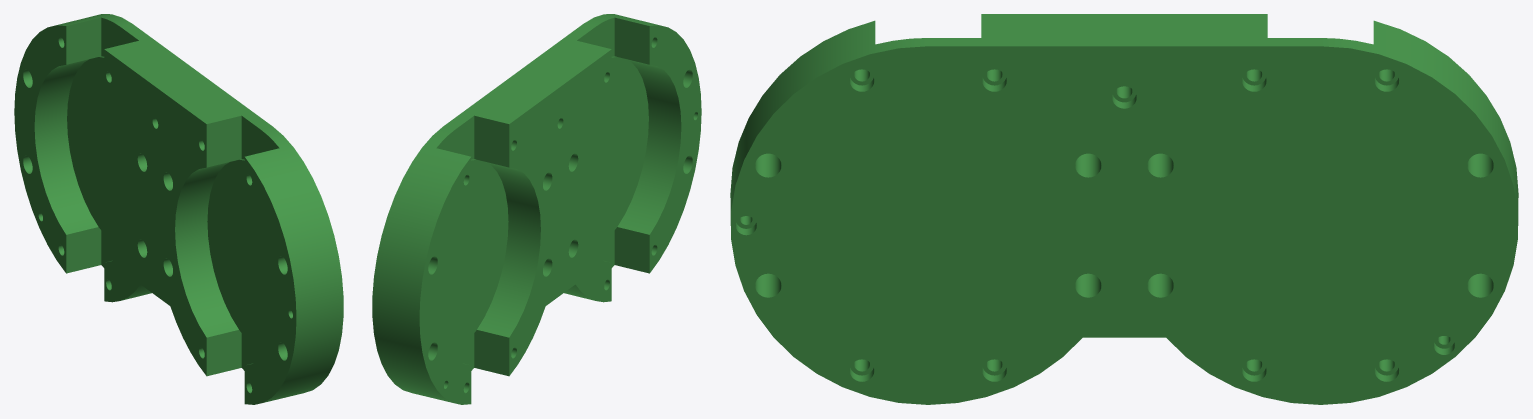
Rendered from ThighMountMaleRight.dae.
The picture shows the model from 3 angles, left to right: view 1: azimuth 30°, elevation 25°; view 2: azimuth 150°, elevation 25°; view 3: azimuth 270°, elevation 25°; orthographic projection. The views are drawn at different scales.
Parts seen in each view (by area): view 1: ThighMountMaleRight; view 2: ThighMountMaleRight; view 3: ThighMountMaleRight.
Part boxes in pixels (<box>): ThighMountMaleRight: <box>14,14,343,404</box>; ThighMountMaleRight: <box>372,14,701,404</box>; ThighMountMaleRight: <box>730,14,1518,404</box>.
Size of the model in its own units: 0.0216 by 0.223 by 0.112.
